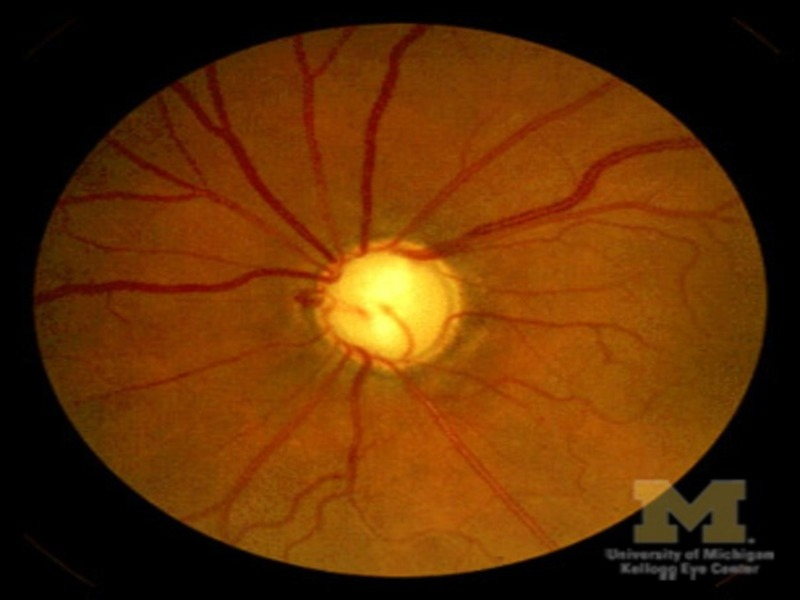Optic Cup: (353, 257, 416, 340)
Optic Disc: (313, 233, 473, 372)
